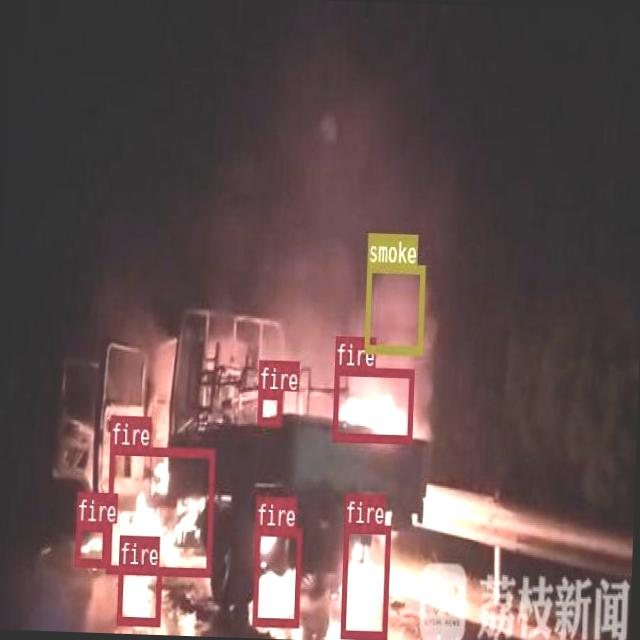fire: (105, 444, 213, 574), (332, 365, 412, 441), (340, 522, 390, 638), (252, 526, 300, 626), (116, 564, 160, 625), (74, 521, 106, 565), (256, 389, 281, 424)
smoke: (363, 262, 424, 353)
